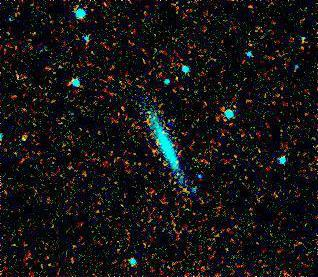star: (157, 107, 187, 137)
